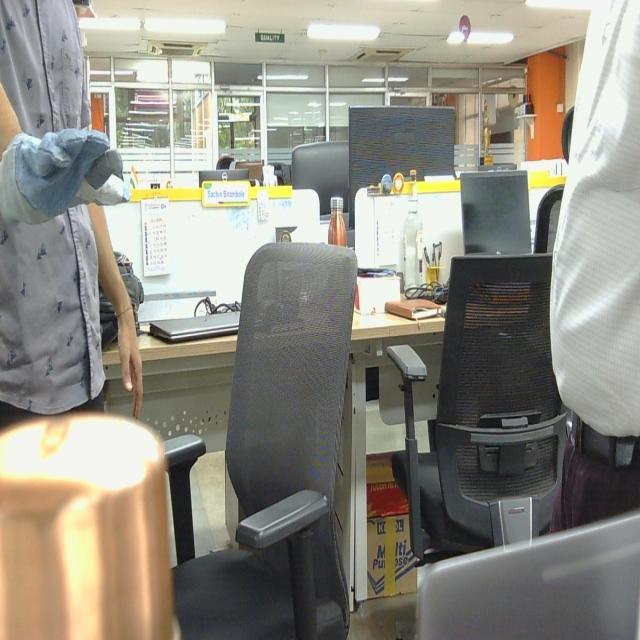Gloves-Detection: (0, 126, 132, 234)
